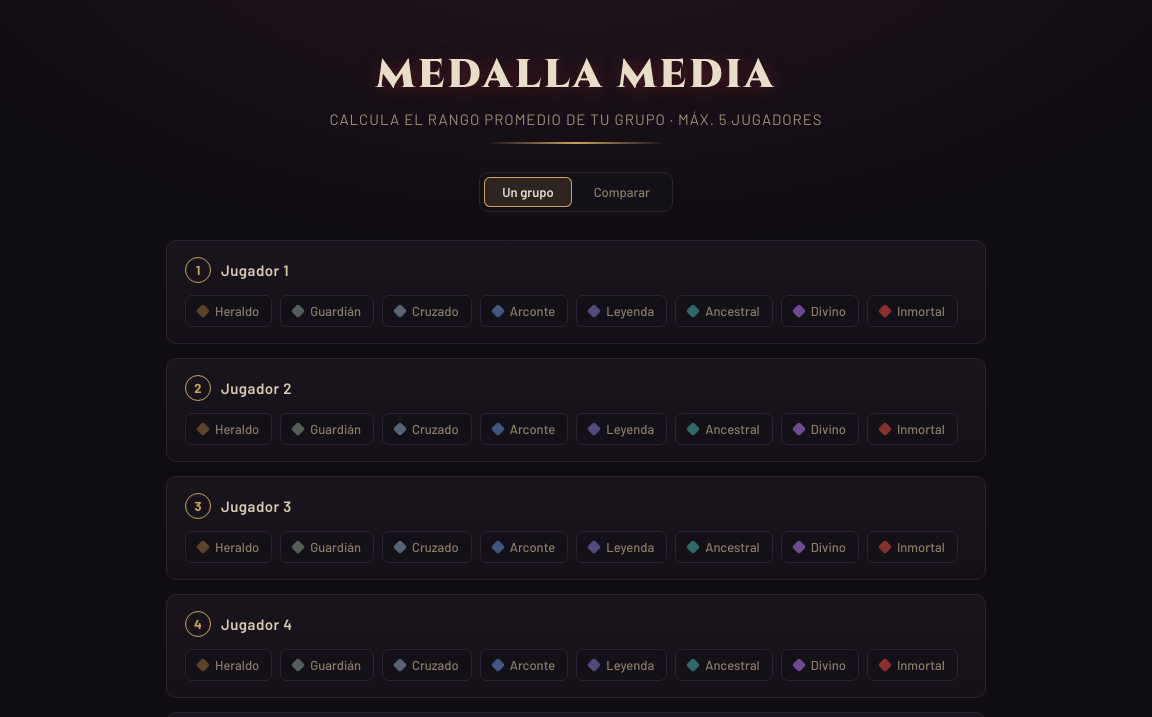
App · comparison mode › names the stronger group when the ranges do not overlap
Click the button "Comparar" at [622, 192], box [576,177,668,207]
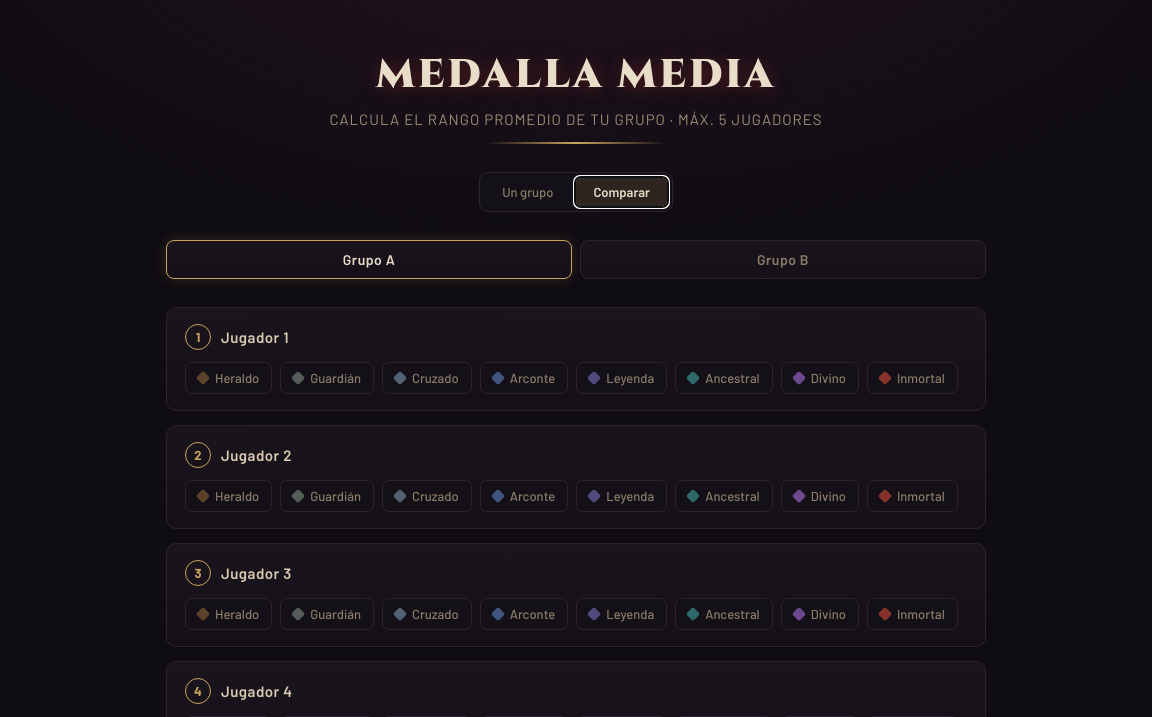
Click the 1st button "Heraldo" at [229, 378], box [185,362,272,394]
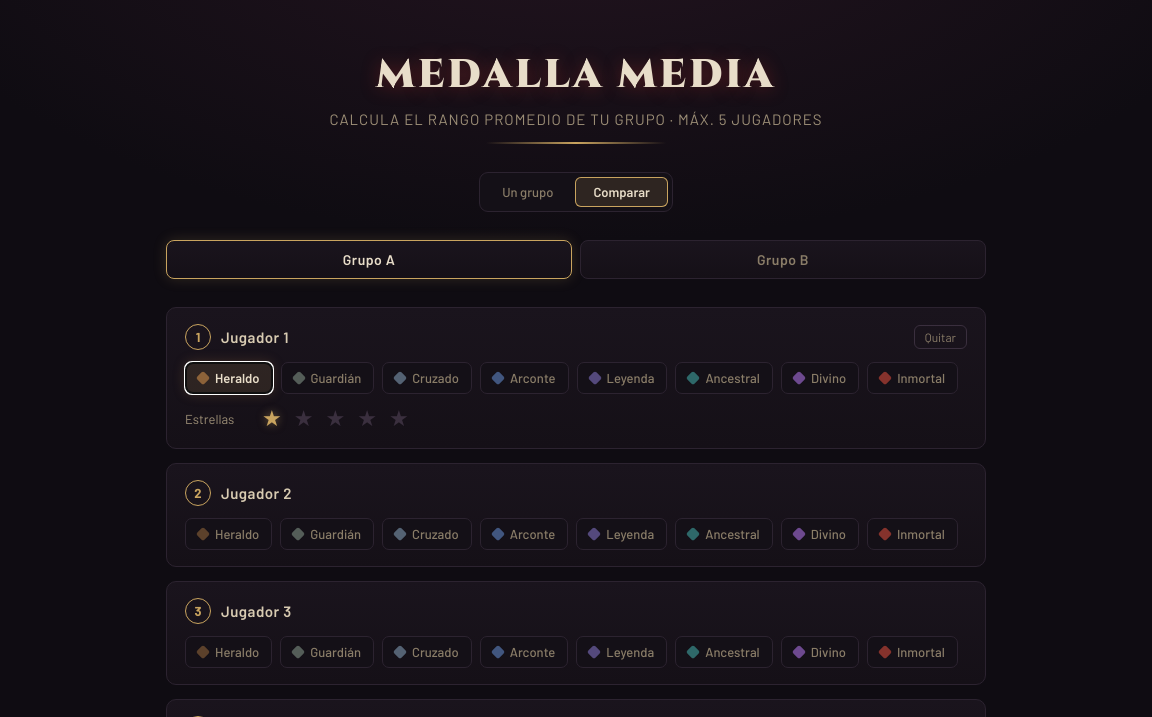
Click the tab "Grupo B" at [783, 260], box [580,240,986,279]
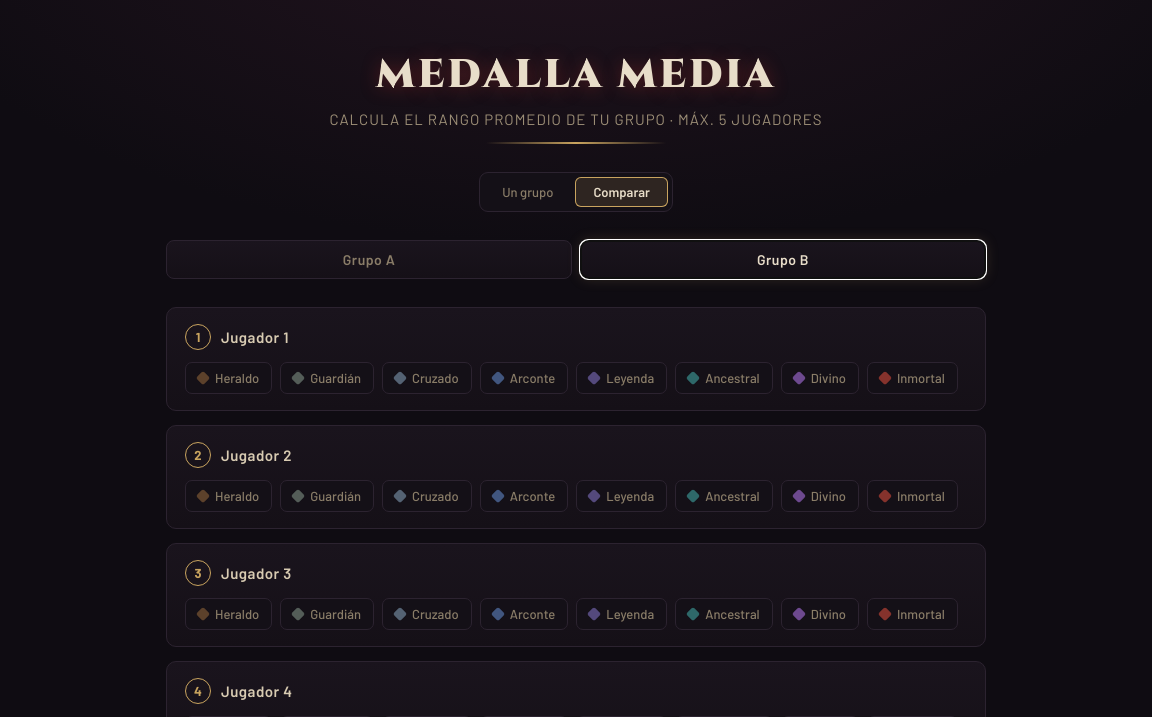
Click the 1st button "Divino" at [820, 378], box [781,362,859,394]
(page scrolled)
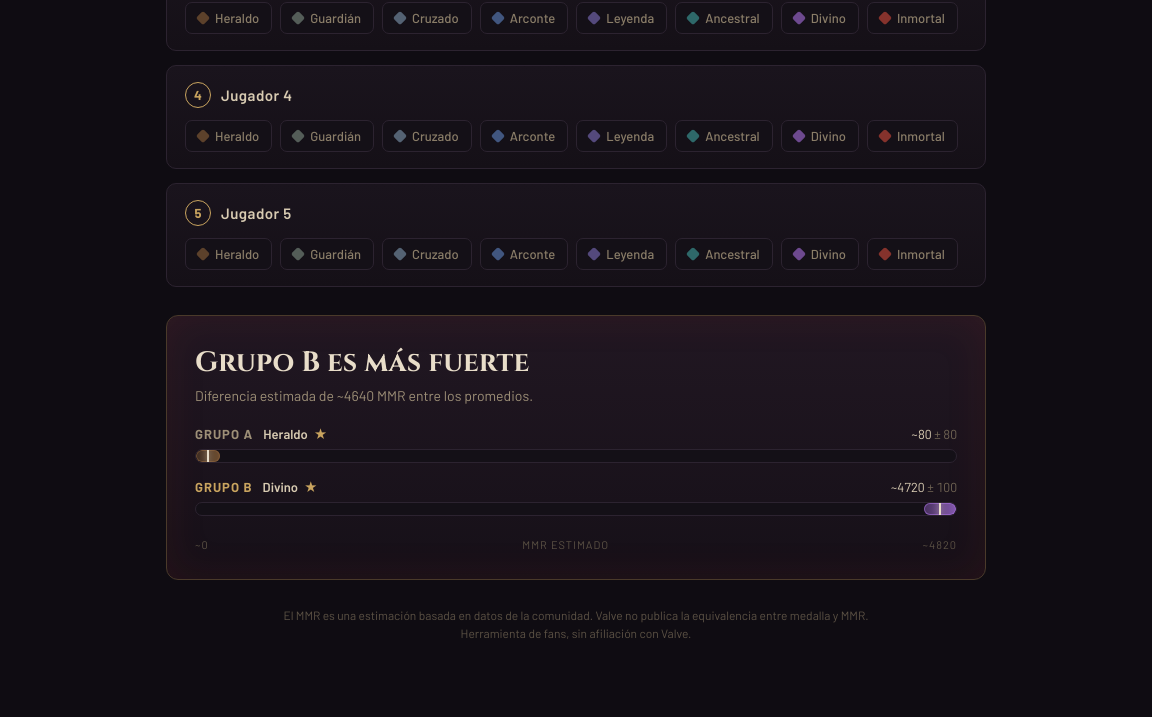
Check: the text "Grupo B es más fuerte" is shown, box [195,344,529,381]
Check: the text "Diferencia estimada de ~4640 MMR entre los promedios." is shown, box [195,387,533,404]
